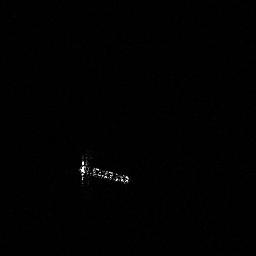ship: (78, 154, 131, 184)
